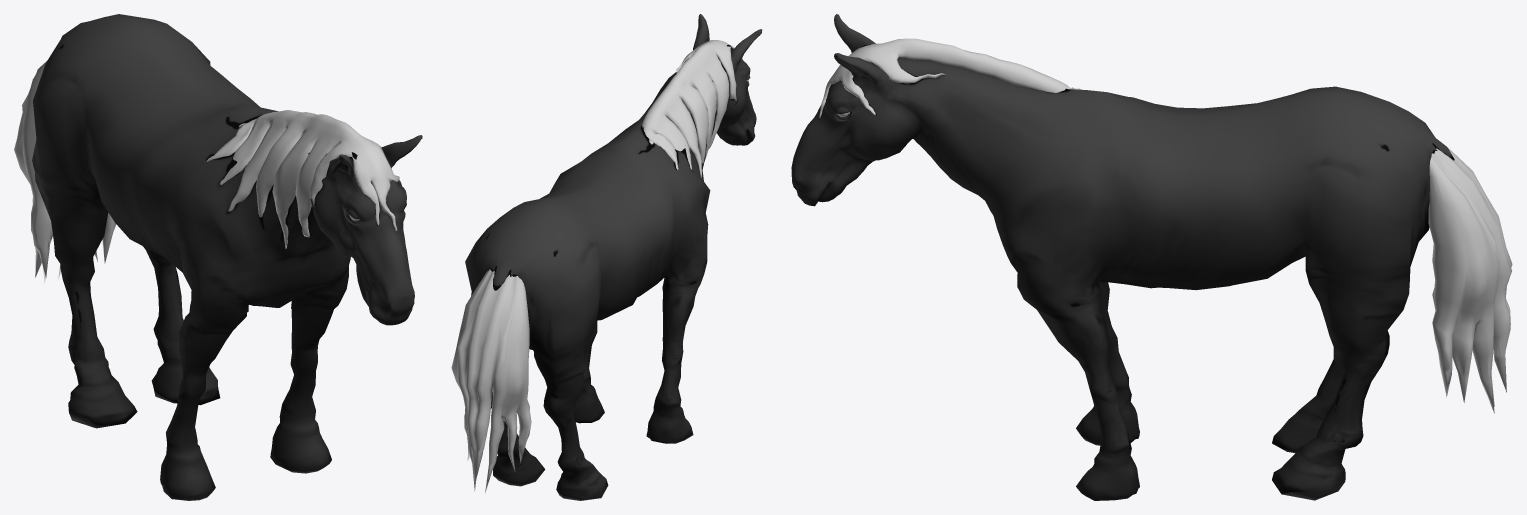
File: horse_LD.dae
The picture shows the model from 3 angles, left to right: view 1: azimuth 30°, elevation 25°; view 2: azimuth 150°, elevation 25°; view 3: azimuth 270°, elevation 25°; orthographic projection. The views are drawn at different scales.
Visible parts, largest first — view 1: Plane, BezierCurve, BezierCurve_005; view 2: Plane, BezierCurve_005, BezierCurve; view 3: Plane, BezierCurve_005, BezierCurve.
Boxes of the visible parts, <box> form: Plane: <box>32,14,422,500</box>; BezierCurve: <box>206,110,399,248</box>; BezierCurve_005: <box>14,61,116,283</box>; Plane: <box>465,14,762,500</box>; BezierCurve_005: <box>451,269,531,493</box>; BezierCurve: <box>641,40,742,177</box>; Plane: <box>791,14,1454,500</box>; BezierCurve_005: <box>1428,148,1512,413</box>; BezierCurve: <box>819,38,1080,118</box>.
Size of the model in its own units: 3.88 by 14.47 by 9.59.
